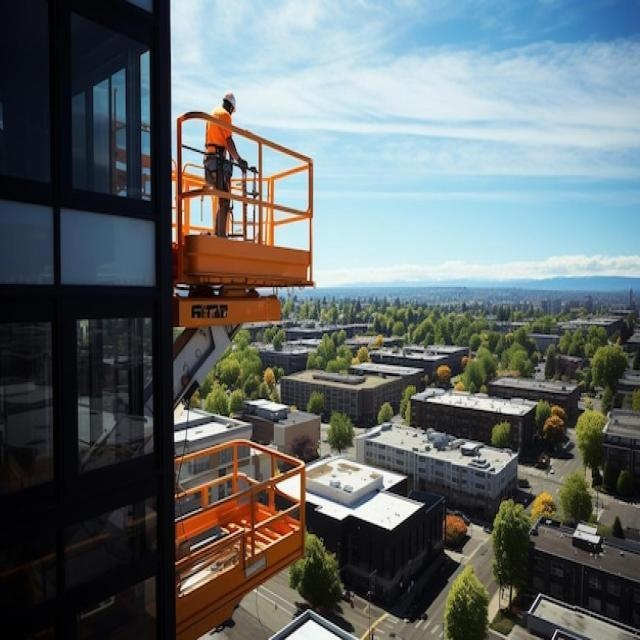Arnes_seguridad: (204, 143, 233, 194)
